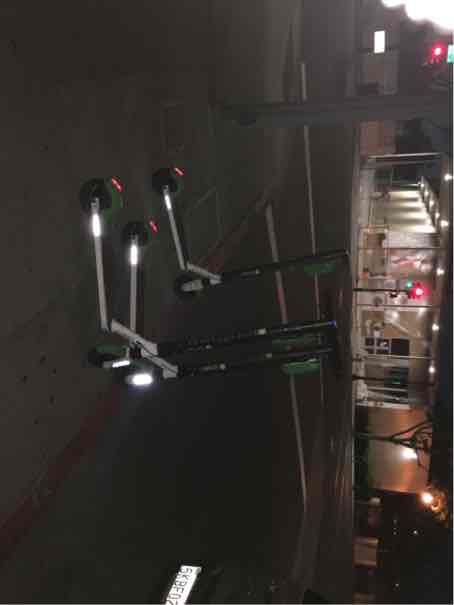too close: (121, 330, 179, 419), (165, 239, 219, 327)
